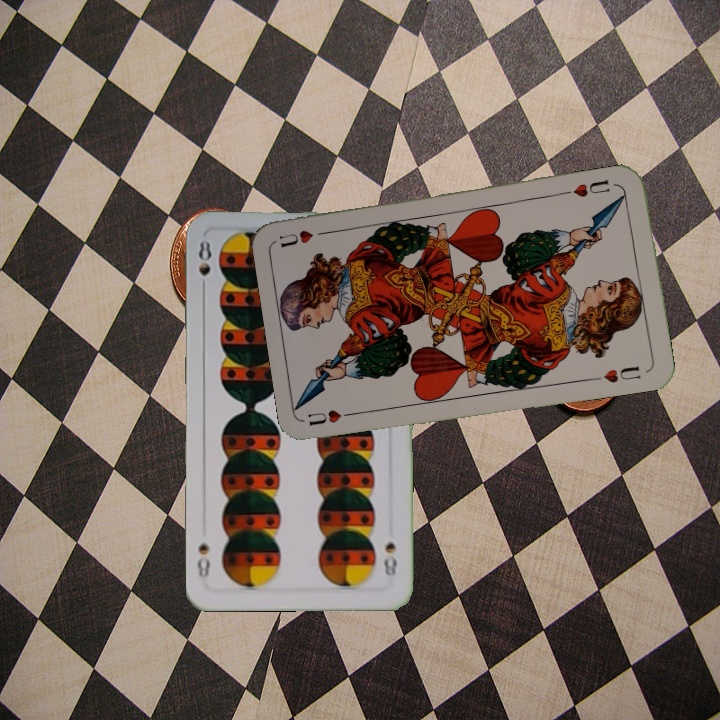HU: (303, 406, 362, 428), (562, 175, 613, 200)
S8: (194, 236, 214, 295), (379, 538, 400, 580)
